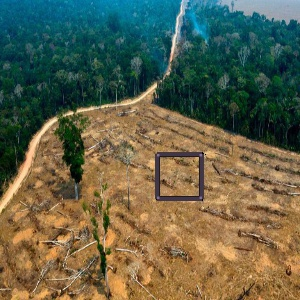square: (153, 150, 206, 203)
